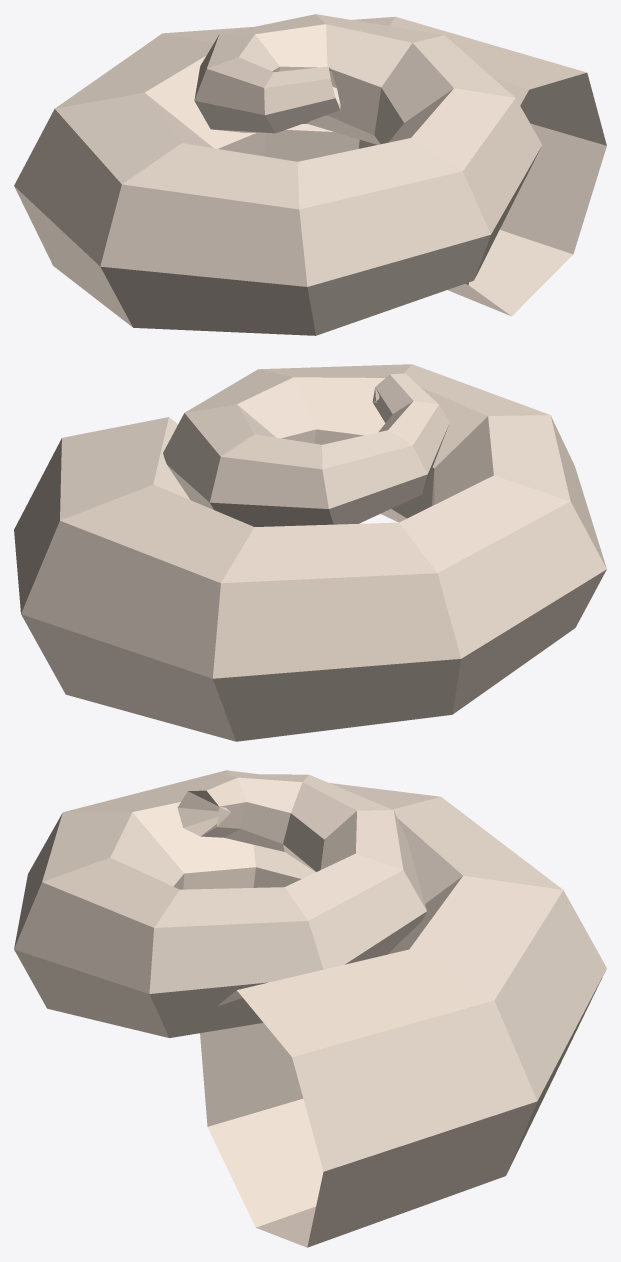
The model's file is shell-conch.glb.
3 renders of one model, top to bottom at view 1: azimuth 30°, elevation 25°; view 2: azimuth 150°, elevation 25°; view 3: azimuth 270°, elevation 25°, orthographic. The views are drawn at different scales.
Visible parts, largest first — view 1: conch; view 2: conch; view 3: conch.
Part boxes in pixels (x1,y1,x2,y2): conch: [14, 14, 606, 335]; conch: [14, 364, 606, 741]; conch: [14, 770, 606, 1247].
Bounding box in the file's own units: 0.4192 × 0.2267 × 0.3672.
